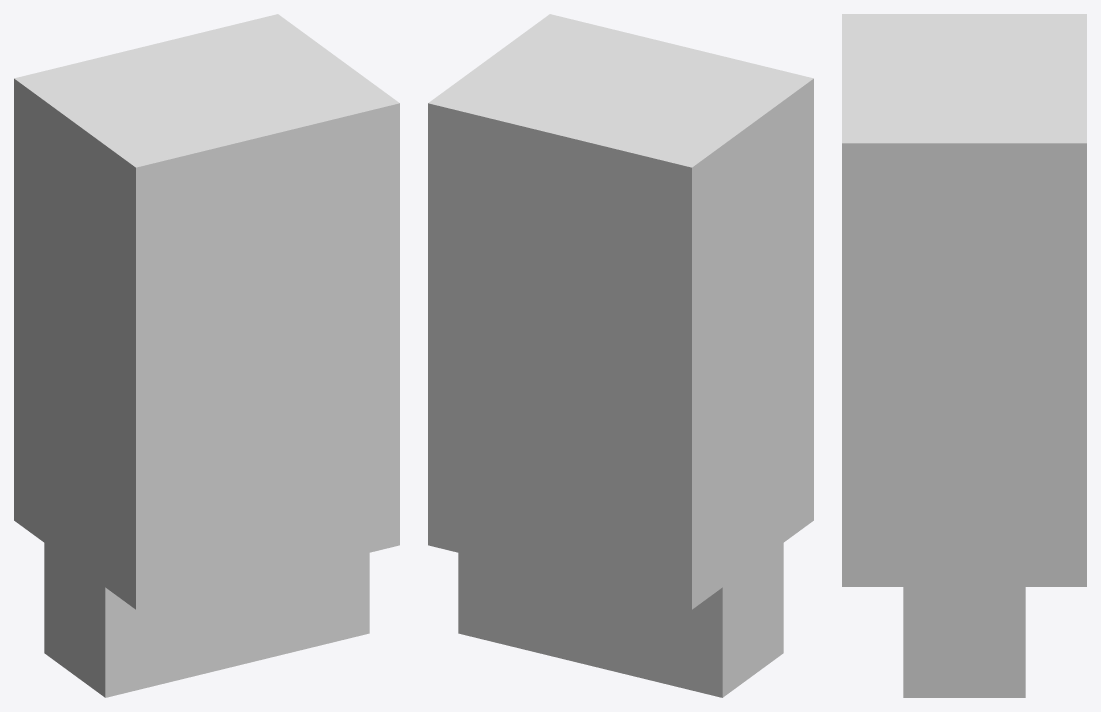
The model's file is stig body.obj.
3 views of the same model, side by side, from view 1: azimuth 30°, elevation 25°; view 2: azimuth 150°, elevation 25°; view 3: azimuth 270°, elevation 25° (orthographic).
Bounding box in the file's own units: 10 × 20 × 8.
1 material, 1 textured.
